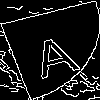A: (25, 24, 83, 79)
